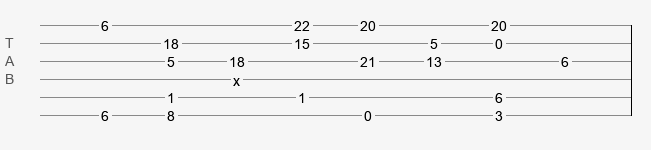0: (364, 108, 372, 118), (495, 36, 503, 46)
1: (167, 90, 175, 100), (298, 90, 306, 100)
13: (426, 54, 442, 64)
15: (294, 36, 310, 46)
18: (163, 36, 179, 46), (229, 54, 245, 64)
20: (360, 18, 376, 28), (491, 18, 507, 28)
21: (360, 54, 376, 64)
22: (294, 18, 310, 28)
3: (495, 108, 503, 118)
5: (167, 54, 175, 64), (430, 36, 438, 46)
6: (101, 18, 109, 28), (101, 108, 109, 118), (495, 90, 503, 100), (561, 54, 569, 64)
8: (167, 108, 175, 118)
x: (233, 73, 240, 81)
